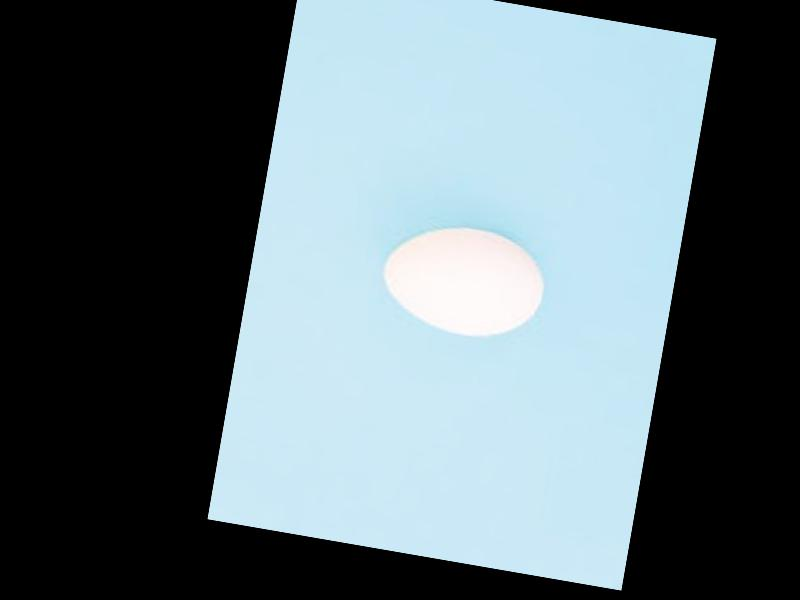Eggs: (372, 213, 551, 345)
